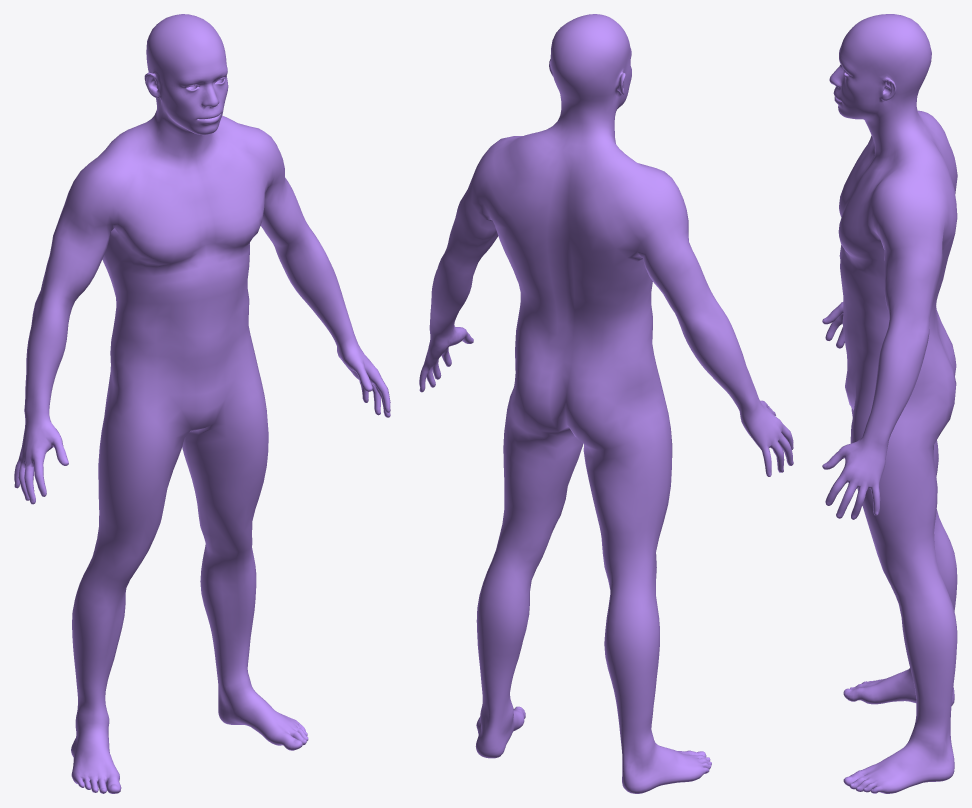
The model's file is Dummy.glb.
The picture shows the model from 3 angles, left to right: view 1: azimuth 30°, elevation 25°; view 2: azimuth 150°, elevation 25°; view 3: azimuth 270°, elevation 25°; orthographic projection.
Visible parts, largest first — view 1: GEO-body_male_realistic; view 2: GEO-body_male_realistic; view 3: GEO-body_male_realistic.
Part boxes in pixels (left/top/right/bottom): GEO-body_male_realistic: left=14, top=14, right=390, bottom=793; GEO-body_male_realistic: left=419, top=14, right=793, bottom=793; GEO-body_male_realistic: left=822, top=14, right=957, bottom=793.
Size of the model in its own units: 0.8807 by 1.72 by 0.2904.
